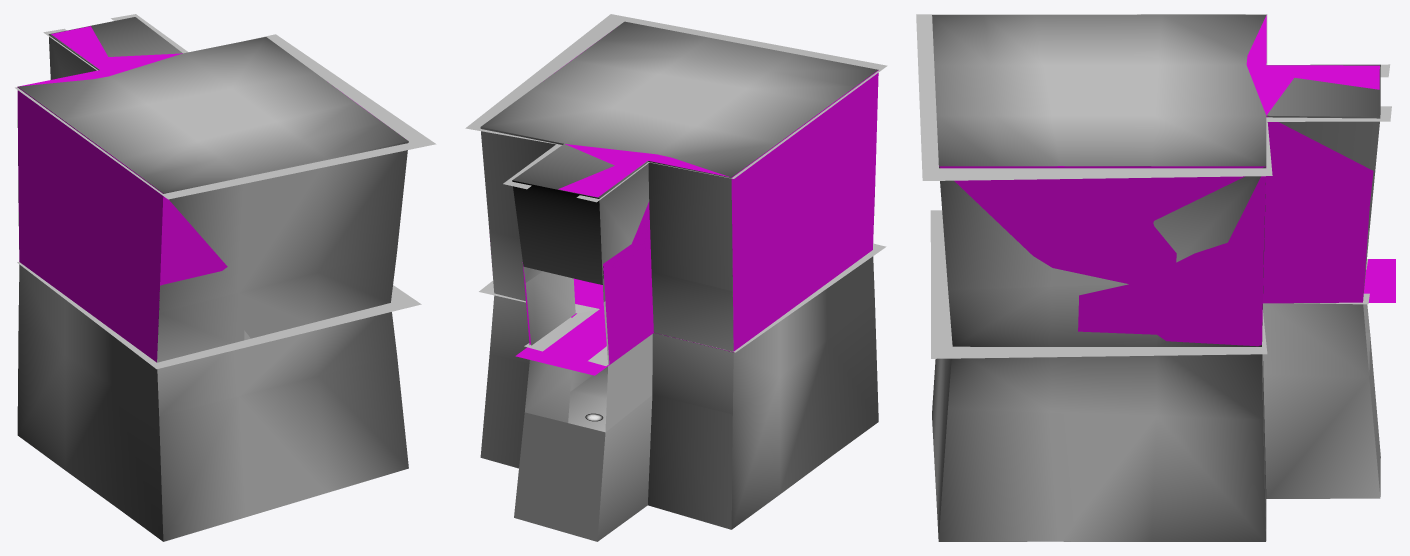
Rendered from office_entrance.fbx.
The picture shows the model from 3 angles, left to right: view 1: azimuth 30°, elevation 25°; view 2: azimuth 150°, elevation 25°; view 3: azimuth 270°, elevation 25°; orthographic projection. The views are drawn at different scales.
Parts seen in each view (by area): view 1: wall (×3), wall2, wall1 (×2), Z3a_shadow_top, Z3a_shadow_Ground; view 2: wall (×3), wall2, wall1 (×2), Z3a_shadow_top, floor, Z3a_shadow_Ground, wall3ref; view 3: wall (×3), wall2, wall1 (×2), Z3a_shadow_top, Z3a_shadow_Ground, floor.
Boxes of the visible parts, bbox=[...] form: wall (×3): bbox=[17, 26, 408, 541]; wall2: bbox=[18, 17, 408, 193]; wall1 (×2): bbox=[18, 201, 396, 416]; Z3a_shadow_top: bbox=[15, 14, 436, 199]; Z3a_shadow_Ground: bbox=[17, 262, 421, 369]; wall (×3): bbox=[480, 46, 878, 541]; wall2: bbox=[481, 21, 878, 197]; wall1 (×2): bbox=[489, 204, 874, 431]; Z3a_shadow_top: bbox=[465, 14, 887, 202]; floor: bbox=[515, 278, 609, 375]; Z3a_shadow_Ground: bbox=[479, 243, 886, 365]; wall3ref: bbox=[482, 366, 727, 528]; wall (×3): bbox=[932, 15, 1380, 541]; wall2: bbox=[932, 14, 1380, 166]; wall1 (×2): bbox=[945, 230, 1369, 419]; Z3a_shadow_top: bbox=[916, 14, 1391, 180]; Z3a_shadow_Ground: bbox=[930, 210, 1369, 358]; floor: bbox=[1364, 259, 1395, 302].
Size of what is drawn, in the model's own units: 51.24 by 61.79 by 67.1.
